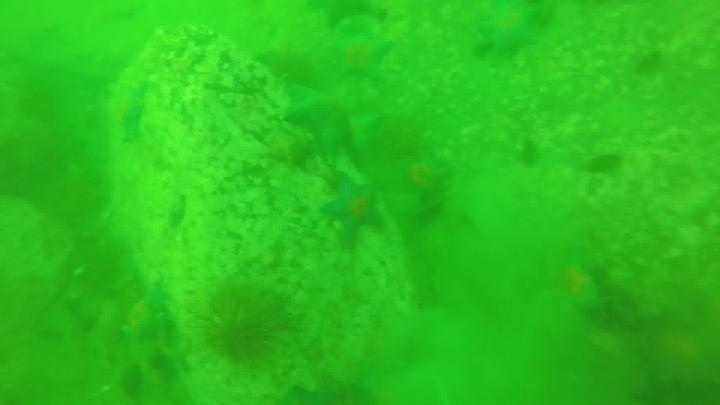echinus: (197, 280, 294, 372), (304, 1, 384, 31)
holothurian: (115, 281, 193, 402)
starfish: (280, 78, 386, 161), (319, 175, 388, 250), (541, 250, 607, 315), (391, 147, 455, 207), (327, 30, 394, 85), (477, 3, 541, 58), (107, 80, 153, 144), (304, 1, 385, 31)
